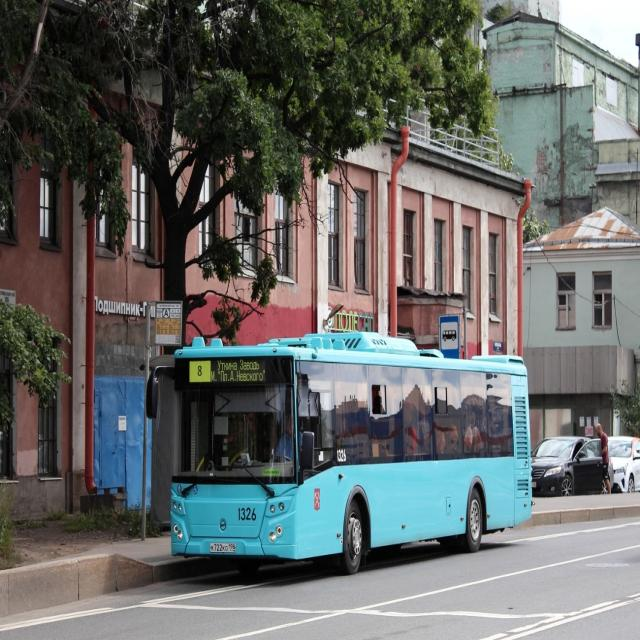number-of-bus: (195, 365, 207, 380)
